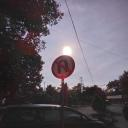NoVirarU: (48, 52, 78, 81)
